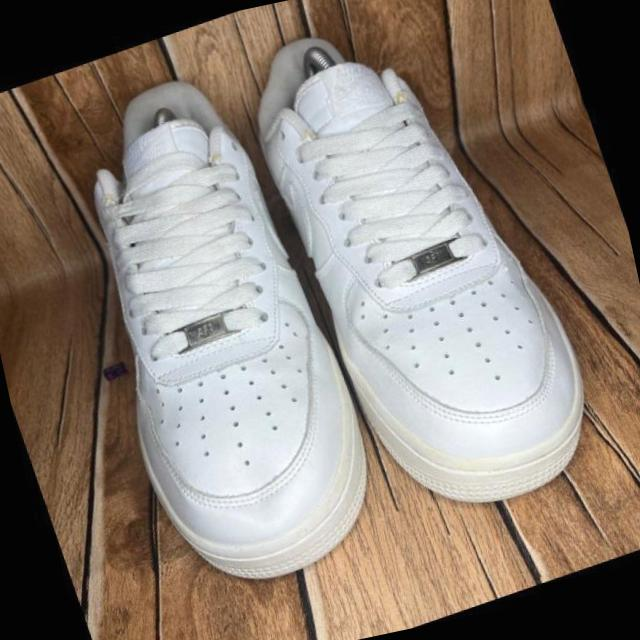nike_fake_airforce: (220, 0, 623, 551), (19, 45, 399, 620)
